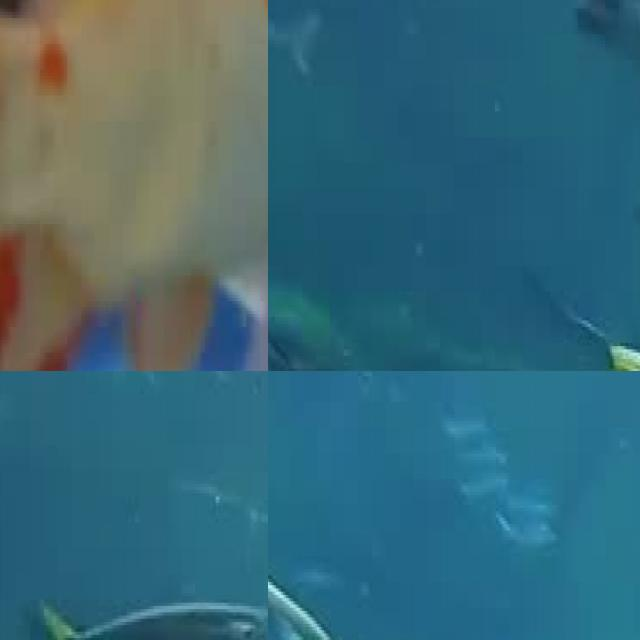fish: (0, 0, 268, 371), (31, 580, 268, 640)
